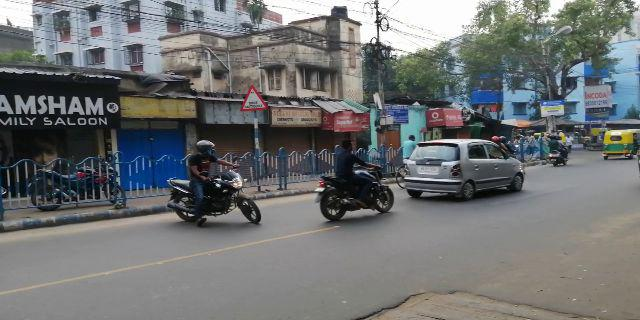Autorickshaw: (602, 134, 634, 160)
Car: (406, 143, 530, 198)
Motorbike: (167, 139, 258, 230), (314, 143, 400, 221)
